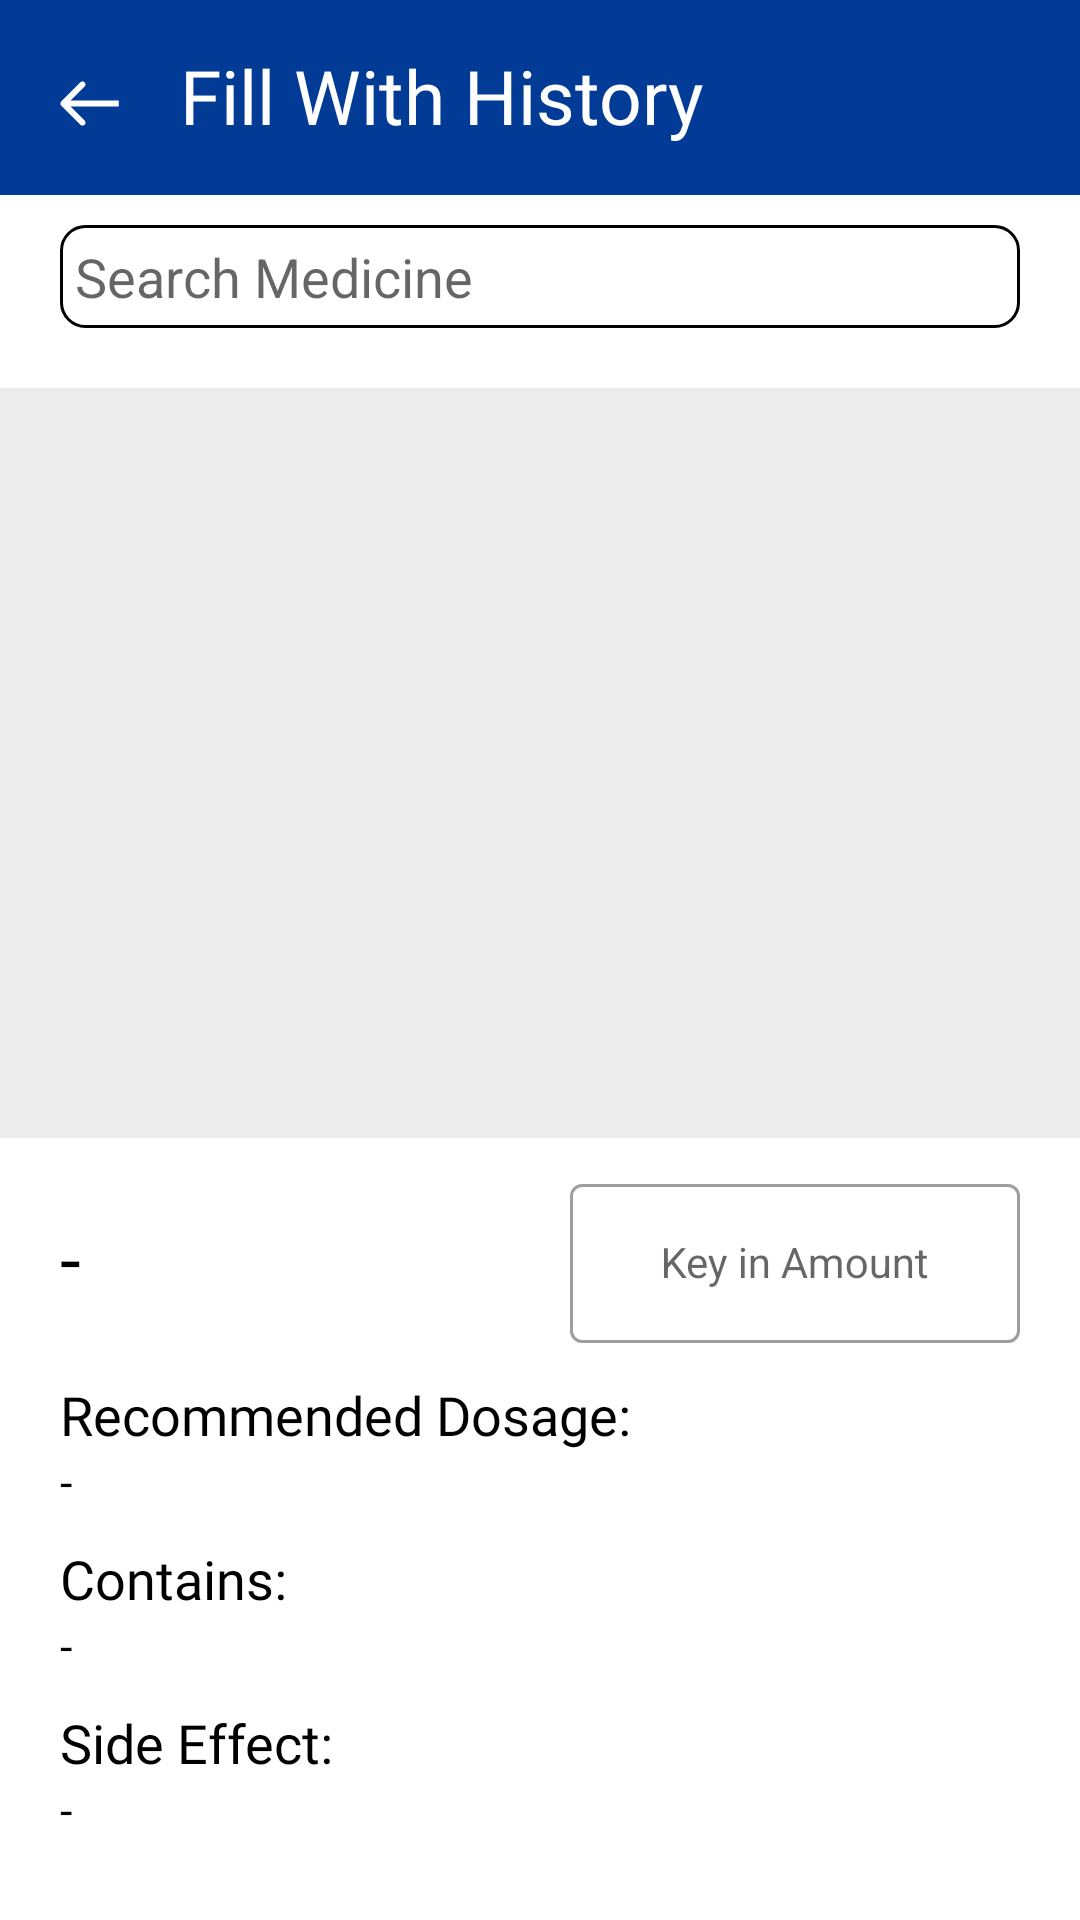

Icon click points for this 1080px×1920px phone screenshot, format (x,y):
Back Arrow: (89,103)
